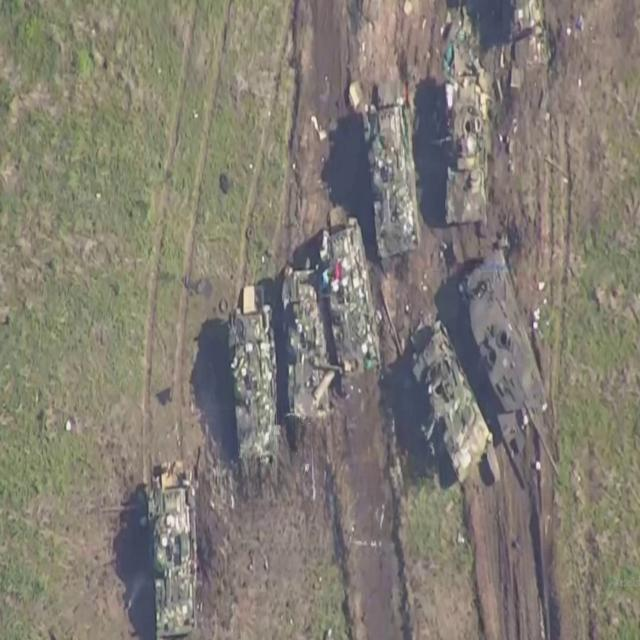AIFV: (414, 323, 495, 490), (322, 223, 382, 389), (149, 468, 198, 640), (229, 307, 278, 464), (435, 78, 487, 224), (282, 270, 329, 419)
MBT: (457, 250, 563, 491)
